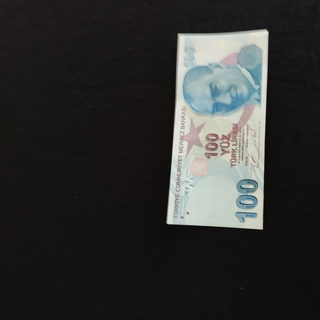100TLFront: (166, 29, 269, 231)
